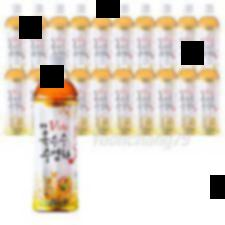oksususuyeomcha: (31, 54, 80, 212)
